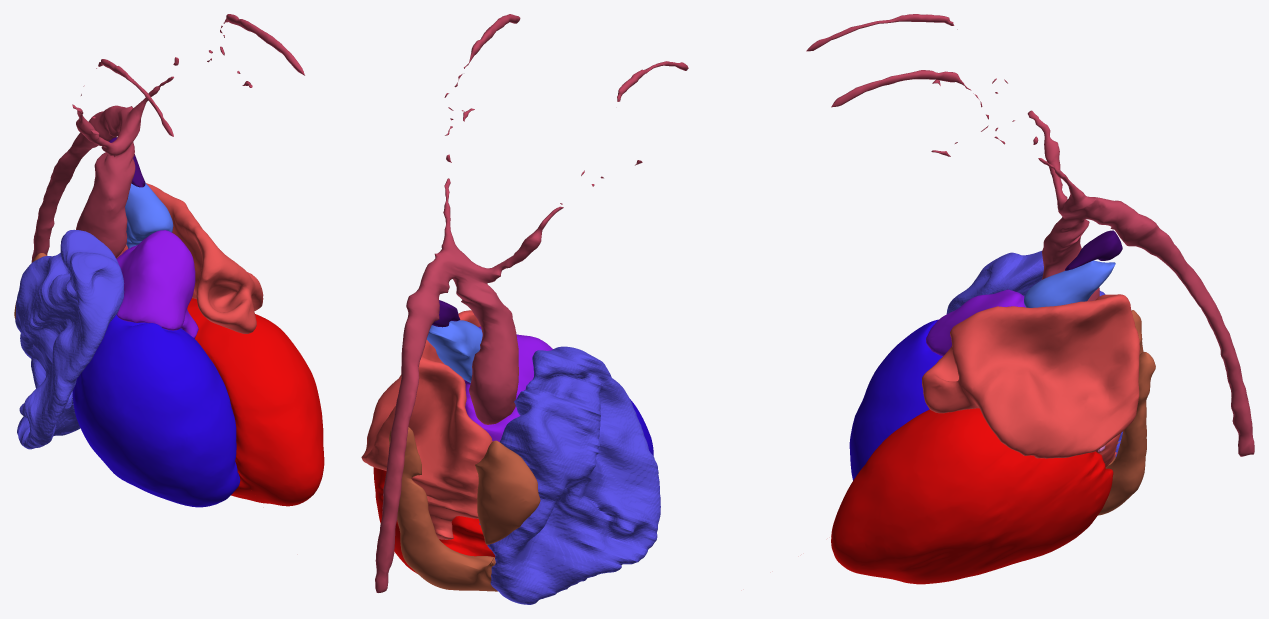
The picture shows the model from 3 angles, left to right: view 1: azimuth 30°, elevation 25°; view 2: azimuth 150°, elevation 25°; view 3: azimuth 270°, elevation 25°; orthographic projection. The views are drawn at different scales.
Parts seen in each view (by area): view 1: cs18_N1645_right-ventricle, cs18_N1645_left-ventricle, cs18_N1645_right-atrium, cs18_N1645_aorta, cs18_N1645_outflow-tract, cs18_N1645_left-atrium, cs18_N1645_pulmonary; view 2: cs18_N1645_right-atrium, cs18_N1645_aorta, cs18_N1645_left-atrium, cs18_N1645_veins, cs18_N1645_pulmonary, cs18_N1645_left-ventricle, cs18_N1645_outflow-tract, cs18_N1645_ductus-arteriosus; view 3: cs18_N1645_left-ventricle, cs18_N1645_left-atrium, cs18_N1645_aorta, cs18_N1645_right-ventricle, cs18_N1645_veins, cs18_N1645_right-atrium, cs18_N1645_pulmonary, cs18_N1645_outflow-tract, cs18_N1645_ductus-arteriosus.
Boxes of the visible parts, x1,y1,x2,y2 form: cs18_N1645_right-ventricle: (72, 314, 240, 507); cs18_N1645_left-ventricle: (187, 298, 324, 506); cs18_N1645_right-atrium: (15, 229, 124, 449); cs18_N1645_aorta: (31, 14, 304, 262); cs18_N1645_outflow-tract: (116, 230, 198, 338); cs18_N1645_left-atrium: (123, 183, 263, 333); cs18_N1645_pulmonary: (125, 183, 173, 248); cs18_N1645_right-atrium: (479, 346, 660, 604); cs18_N1645_aorta: (375, 14, 688, 592); cs18_N1645_left-atrium: (361, 310, 492, 539); cs18_N1645_veins: (388, 427, 540, 591); cs18_N1645_pulmonary: (427, 320, 482, 382); cs18_N1645_left-ventricle: (373, 467, 495, 573); cs18_N1645_outflow-tract: (464, 326, 552, 441); cs18_N1645_ductus-arteriosus: (432, 300, 460, 327); cs18_N1645_left-ventricle: (831, 408, 1113, 584); cs18_N1645_left-atrium: (922, 294, 1139, 467); cs18_N1645_aorta: (806, 14, 1254, 456); cs18_N1645_right-ventricle: (849, 319, 942, 480); cs18_N1645_veins: (1098, 310, 1155, 515); cs18_N1645_right-atrium: (946, 251, 1122, 457); cs18_N1645_pulmonary: (1024, 260, 1115, 307); cs18_N1645_outflow-tract: (926, 289, 1025, 356); cs18_N1645_ductus-arteriosus: (1065, 230, 1122, 270).
Bounding box in the file's own units: 390 × 737 × 664.
